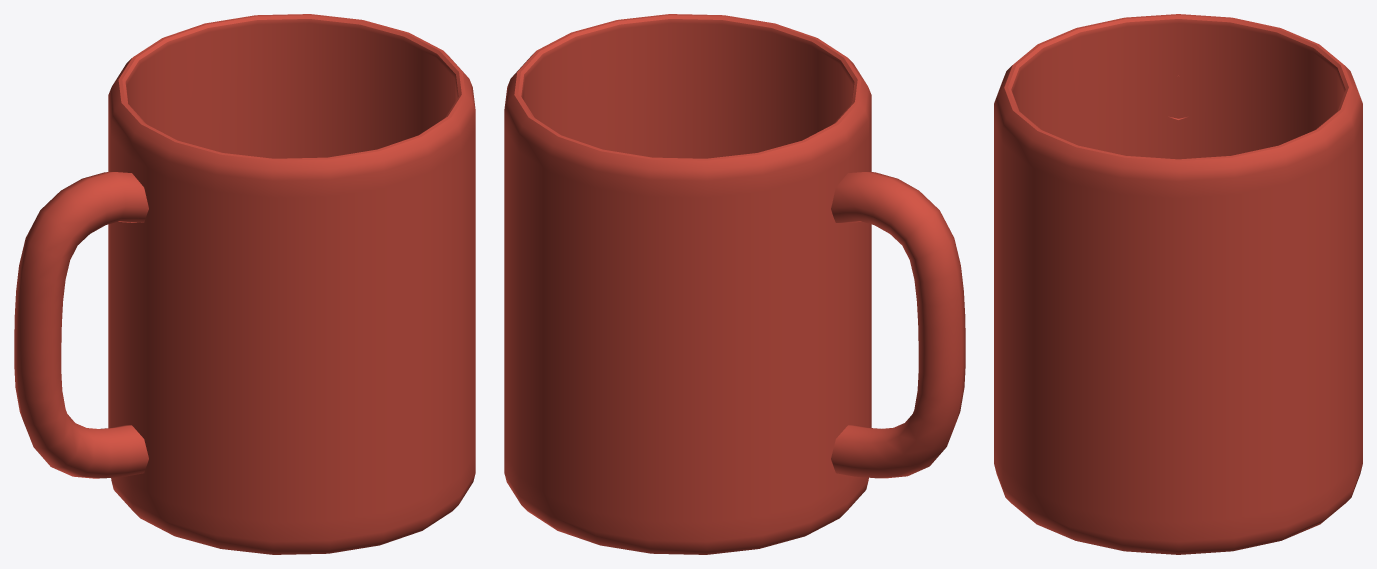
File: mug.fbx
The picture shows the model from 3 angles, left to right: view 1: azimuth 30°, elevation 25°; view 2: azimuth 150°, elevation 25°; view 3: azimuth 270°, elevation 25°; orthographic projection.
Parts seen in each view (by area): view 1: Mug; view 2: Mug; view 3: Mug.
Part boxes in pixels (<box>): Mug: <box>14,14,475,554</box>; Mug: <box>504,14,965,554</box>; Mug: <box>994,14,1362,554</box>.
Size of the model in its own units: 9.11 by 7.96 by 6.71.
